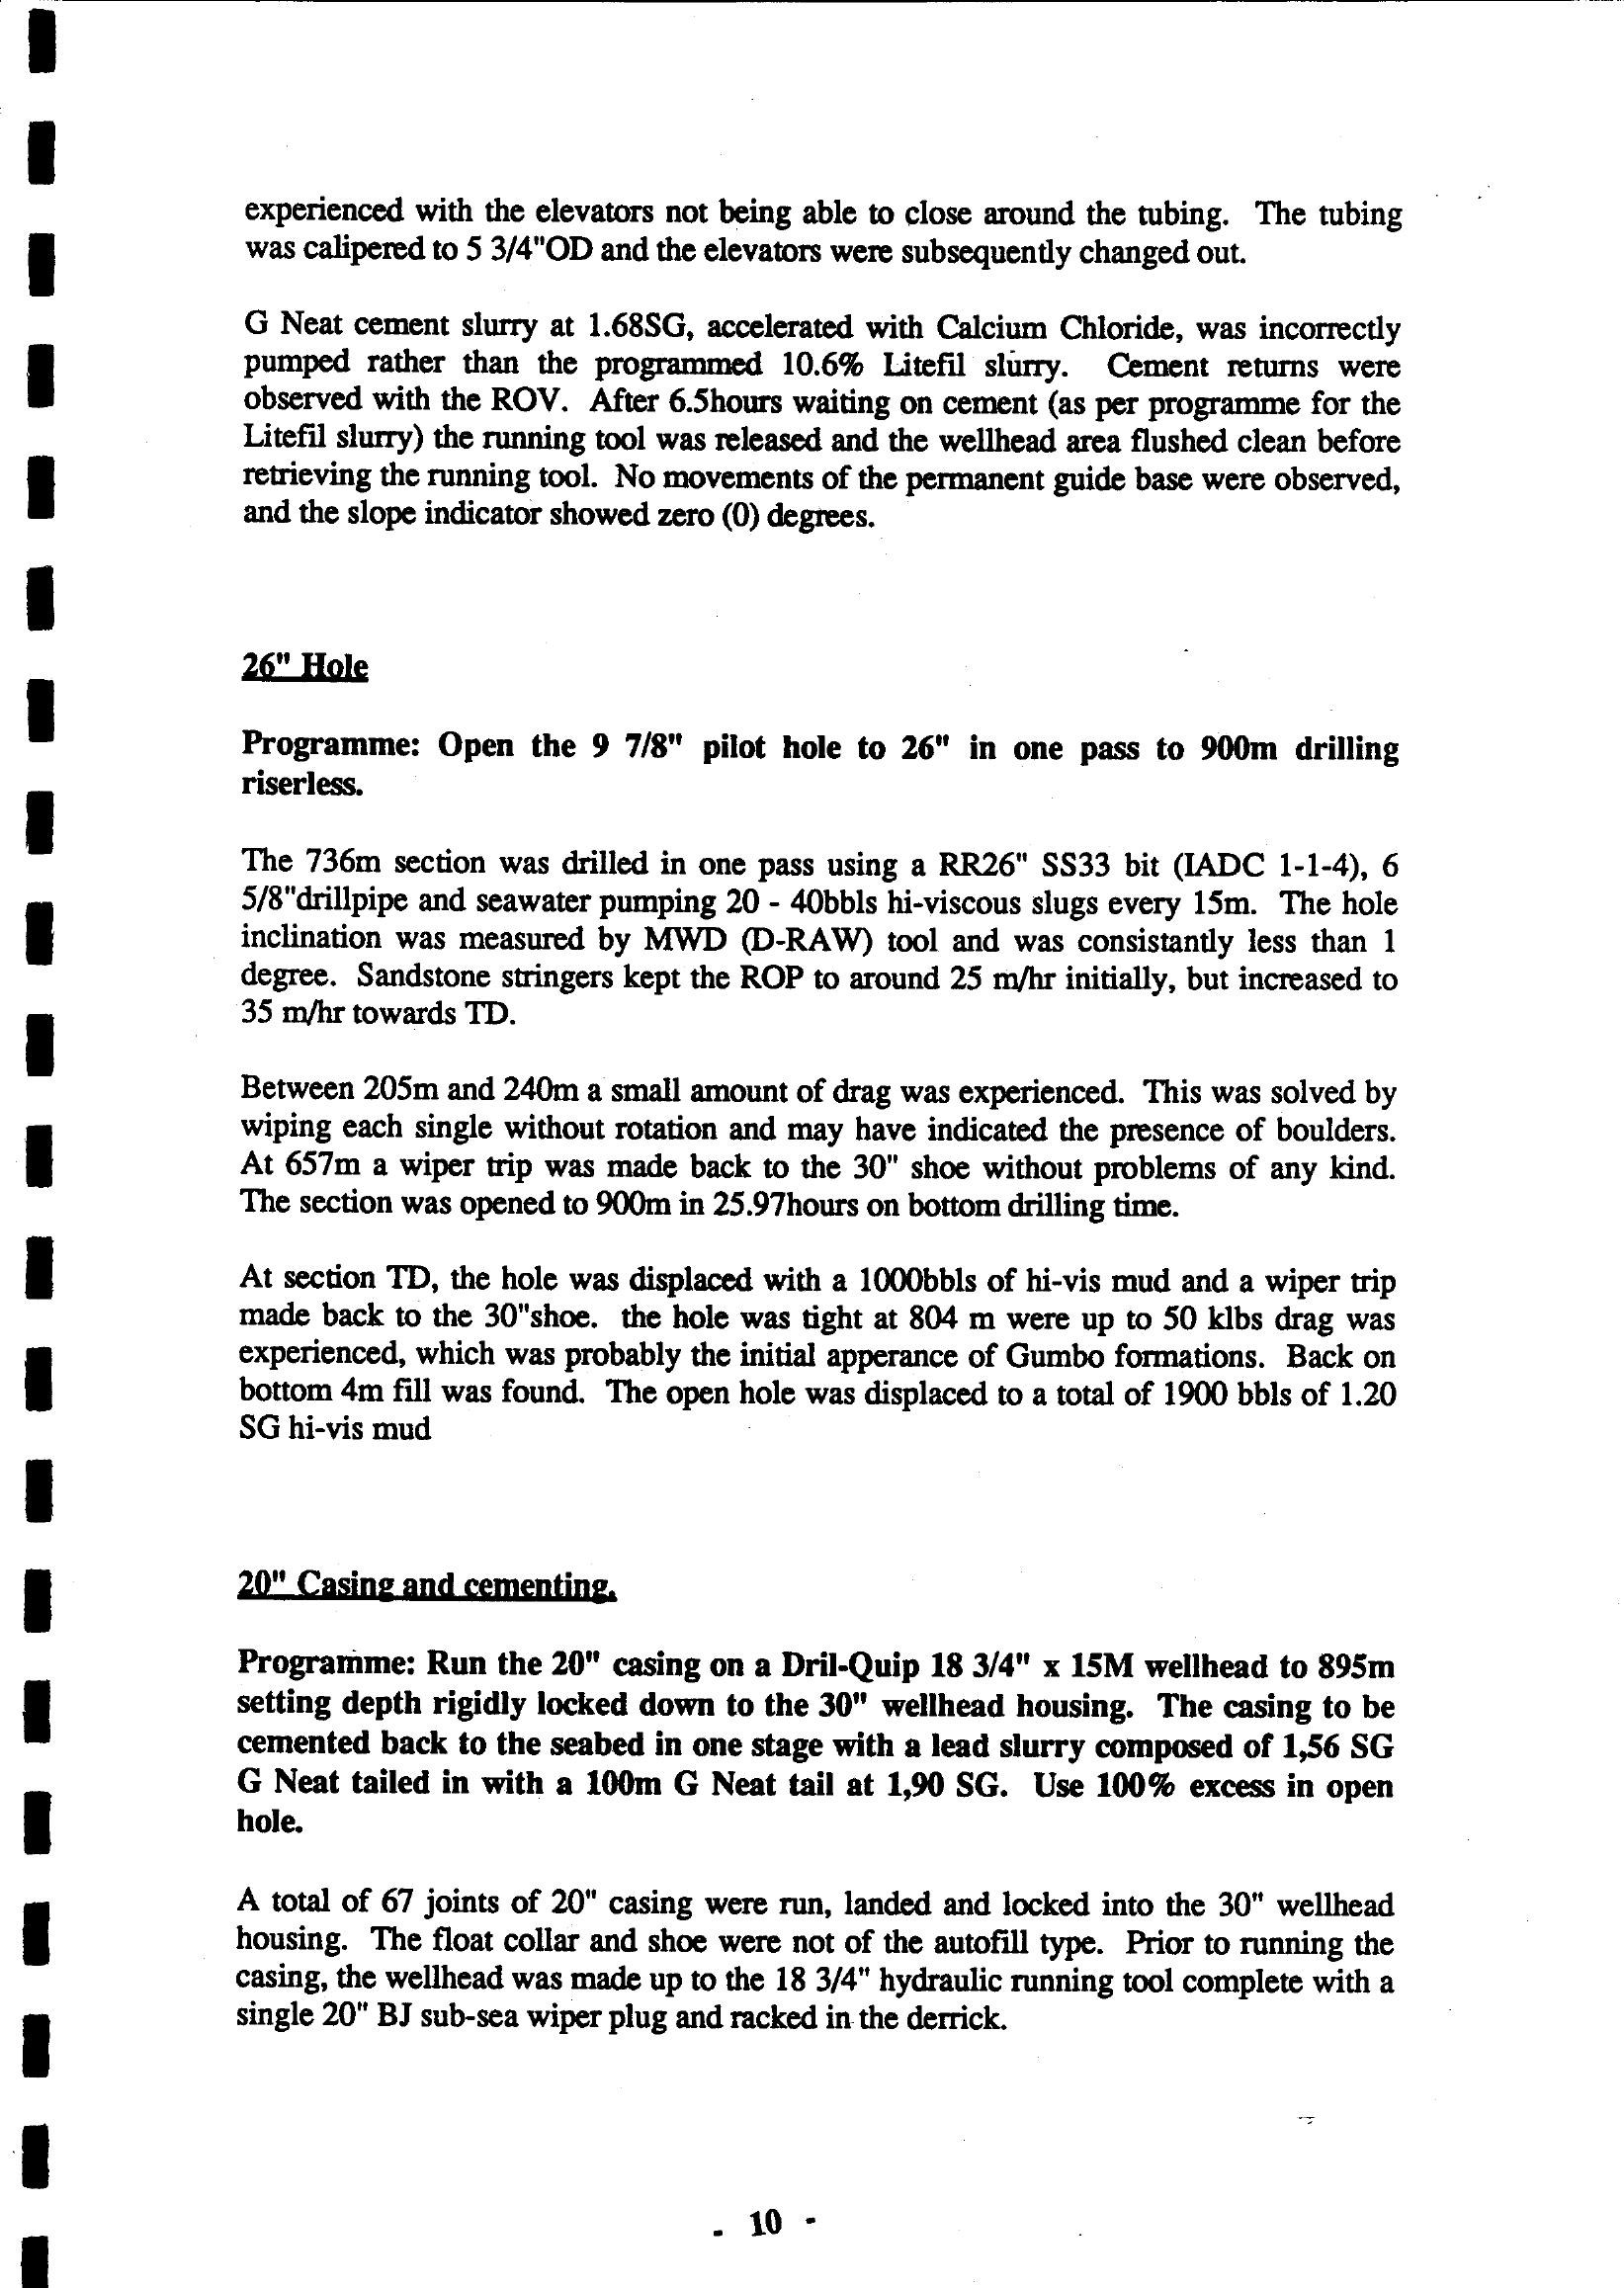text: (185, 153, 1476, 2093)
